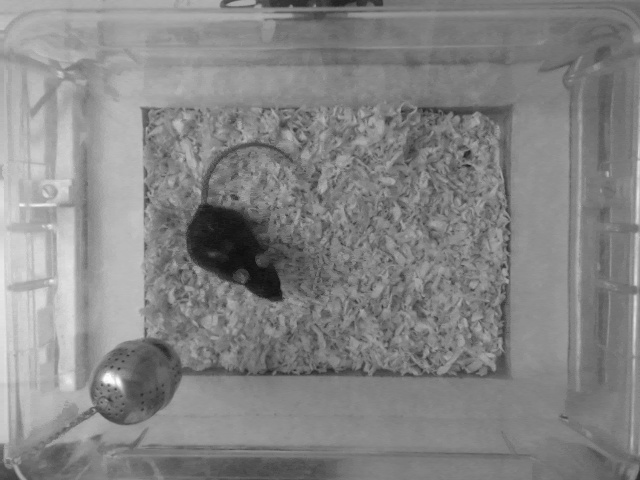mice: (171, 131, 306, 305)
